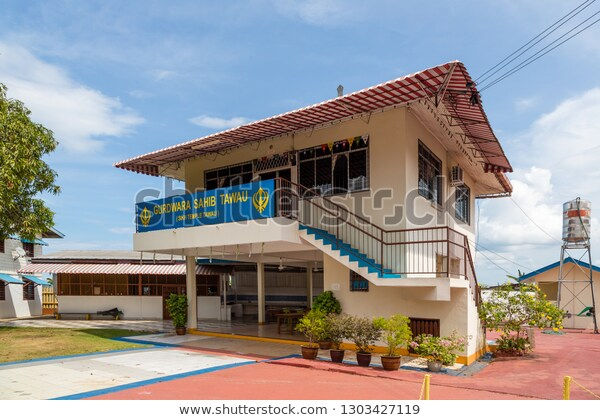Gurdwara: (142, 71, 497, 358)
